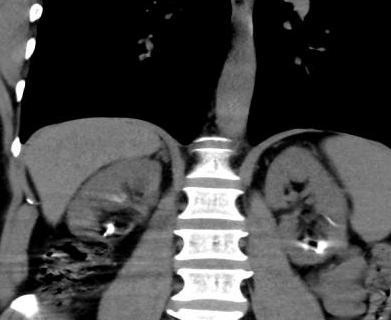Tas_Var: (314, 240, 330, 256), (105, 226, 115, 234), (299, 243, 309, 250), (105, 222, 114, 227), (100, 233, 108, 237)
